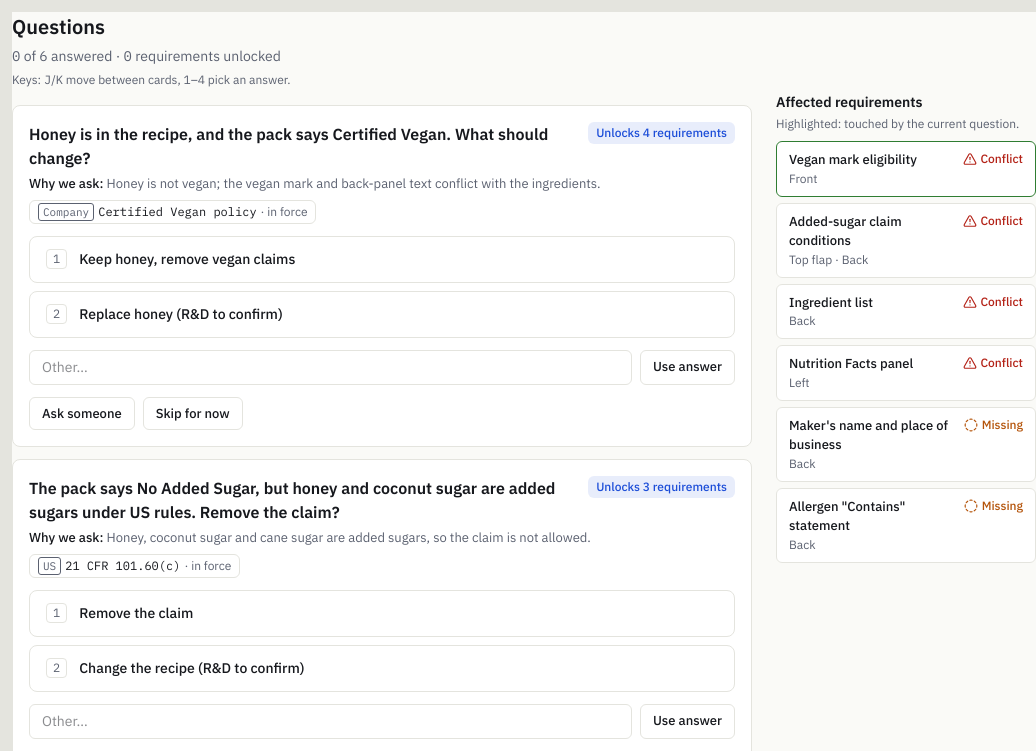
it: Skip, undo and resolve routes › skip reverts and shows the reason when the backend refuses
The width and height of the screenshot is (1036, 751).
expect the heading "Questions" is shown: met, box x1=12 y1=13 x2=105 y2=40
Click the button "Skip for now" below "Certified Vegan policy": point(193, 413) x1=143 y1=396 x2=243 y2=430
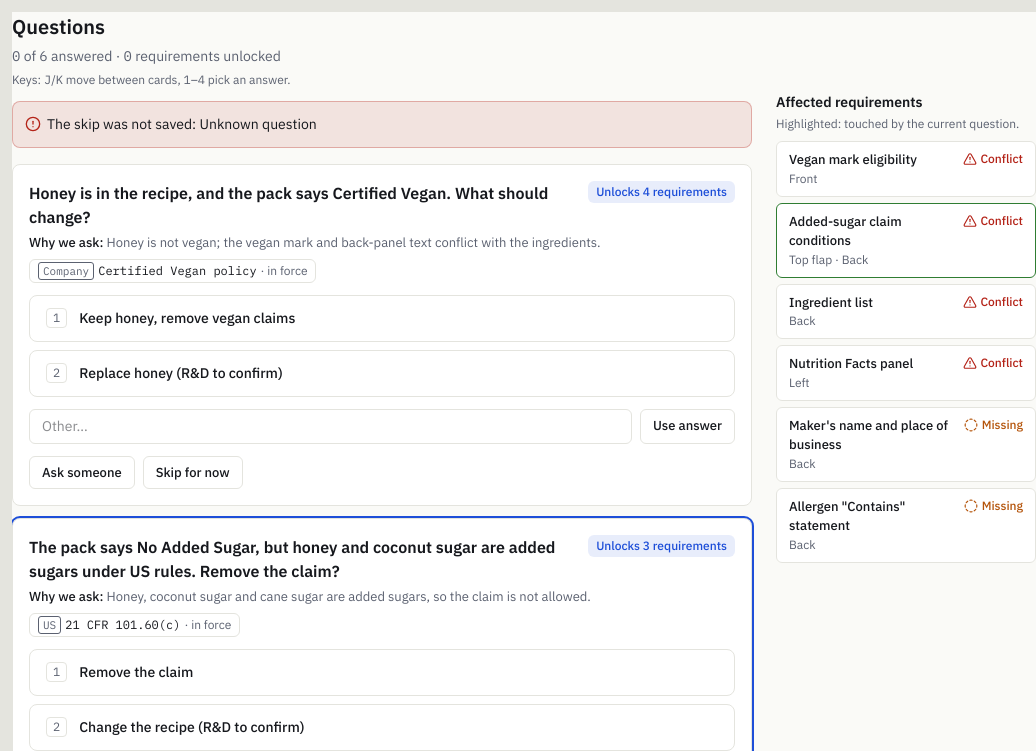
expect the text "The skip was not saved: Unknown question" is shown: met, box x1=12 y1=101 x2=752 y2=148
